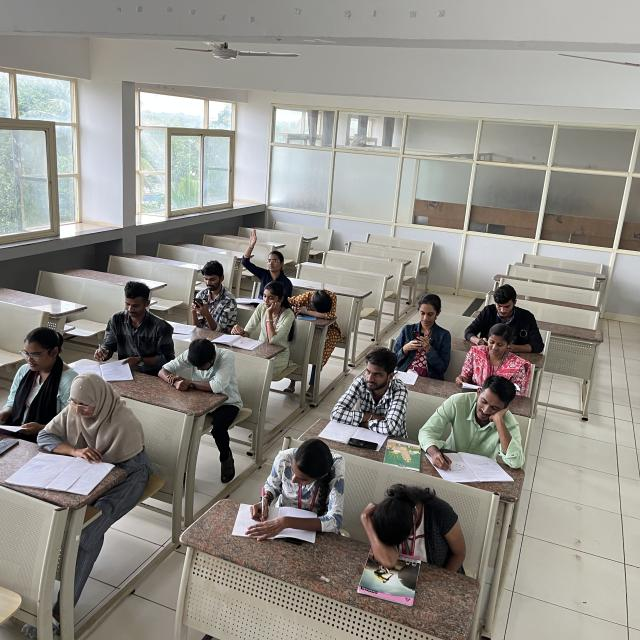Hand Rising: (236, 219, 307, 301)
Reading: (26, 377, 134, 499), (454, 274, 552, 356), (9, 324, 74, 436), (222, 282, 300, 361), (449, 328, 542, 392)
Sleeping: (352, 486, 479, 568), (286, 270, 364, 327)
Using Phone: (386, 287, 456, 363), (178, 252, 241, 330)
Writing: (221, 425, 367, 542), (422, 374, 540, 484), (59, 280, 169, 386)
